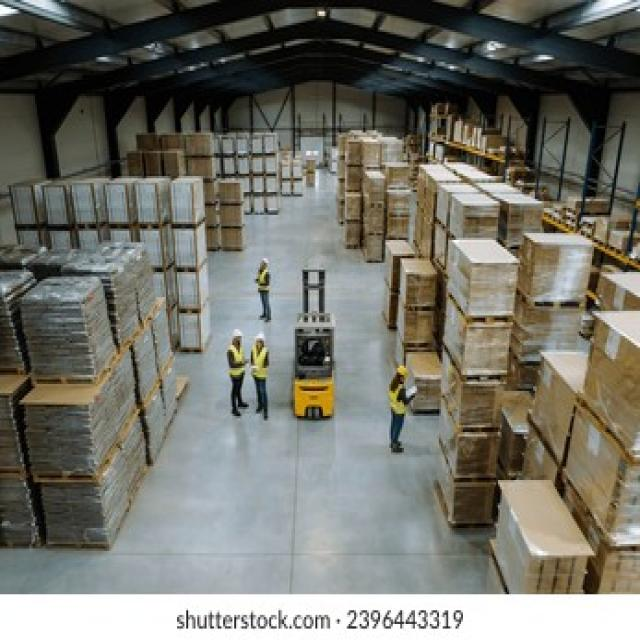box: (454, 236, 521, 324), (445, 293, 514, 373), (536, 348, 581, 466), (525, 226, 597, 297), (443, 451, 502, 532), (440, 416, 502, 485), (452, 362, 509, 433), (406, 352, 441, 418), (402, 263, 435, 308), (402, 304, 438, 344), (176, 178, 202, 232), (174, 225, 204, 271), (179, 311, 212, 351), (176, 270, 208, 310), (10, 183, 40, 223), (106, 185, 132, 228), (135, 184, 165, 221), (72, 186, 101, 224), (45, 186, 69, 226)
